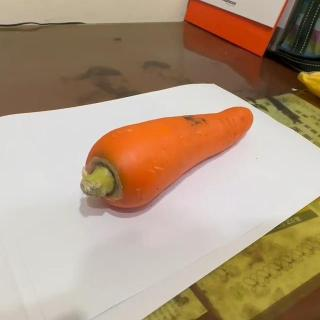carrot: (79, 103, 255, 209)
